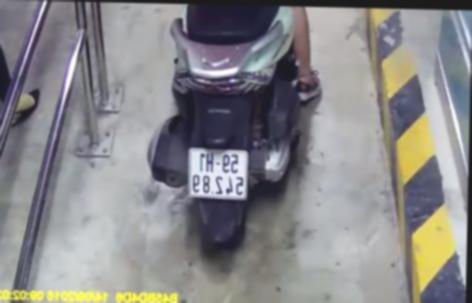License_Plate: (179, 143, 254, 205)
